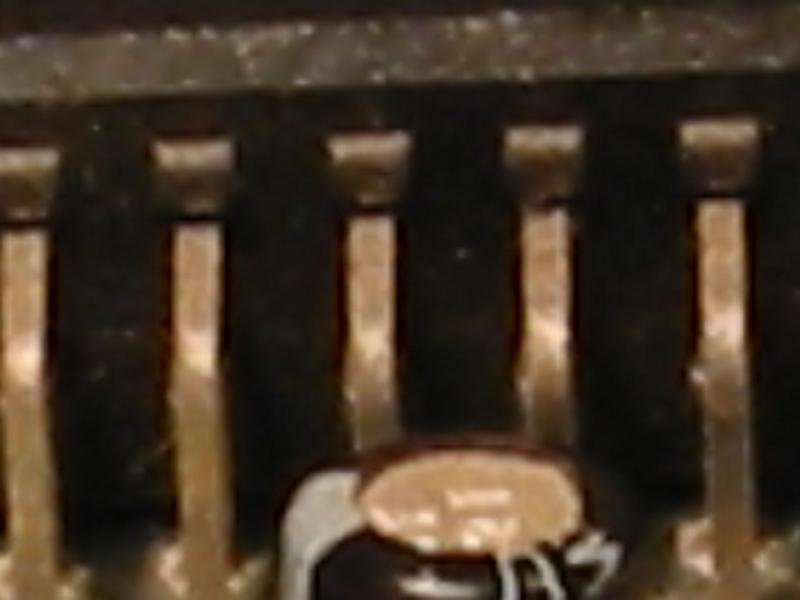Capacitor: (272, 426, 677, 600)
